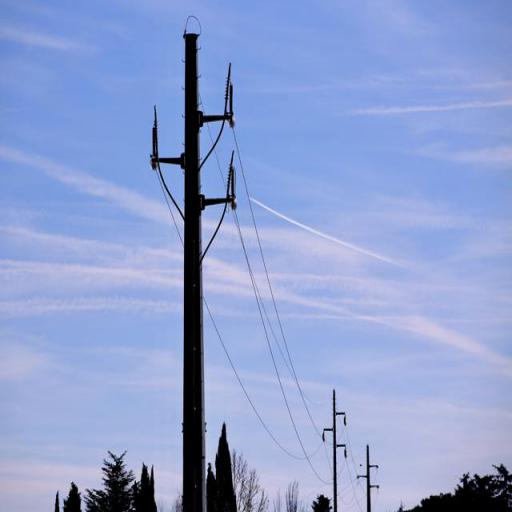mono_10: (146, 28, 238, 509), (321, 388, 349, 511), (355, 441, 381, 510)
